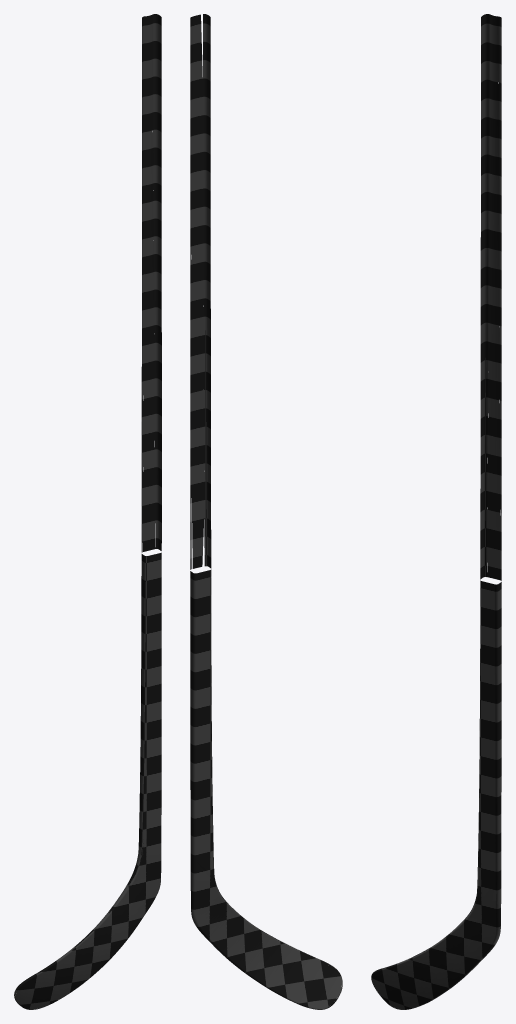
Rendered from P29-ST-LIE6_5.glb.
3 views of the same model, side by side, from view 1: azimuth 30°, elevation 25°; view 2: azimuth 210°, elevation 25°; view 3: azimuth 330°, elevation 25° (orthographic). The views are drawn at different scales.
Parts seen in each view (by area): view 1: geometry_0; view 2: geometry_0; view 3: geometry_0.
Part boxes in pixels (<box>): geometry_0: <box>14,14,161,1009</box>; geometry_0: <box>190,14,342,1009</box>; geometry_0: <box>371,14,501,1009</box>.
Size of the model in its own units: 237 by 1650 by 55.99.
Materials: 1 (1 with a texture image).
